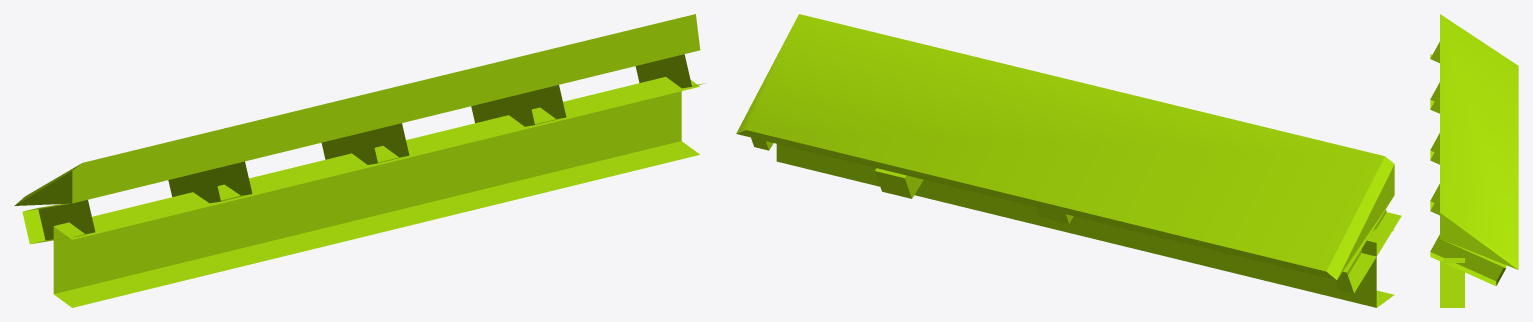
Rendered from WallKit_Eaves_COL.fbx.
3 renders of one model, left to right at view 1: azimuth 30°, elevation 25°; view 2: azimuth 150°, elevation 25°; view 3: azimuth 270°, elevation 25°, orthographic. The views are drawn at different scales.
Visible parts, largest first — view 1: WallKit_Eaves_COL; view 2: WallKit_Eaves_COL; view 3: WallKit_Eaves_COL.
Boxes of the visible parts, box(x1,y1,x2,y2) form: WallKit_Eaves_COL: box(14, 14, 706, 307); WallKit_Eaves_COL: box(736, 14, 1401, 307); WallKit_Eaves_COL: box(1430, 14, 1518, 307).
Bounding box in the file's own units: 401 × 86.81 × 73.88.
